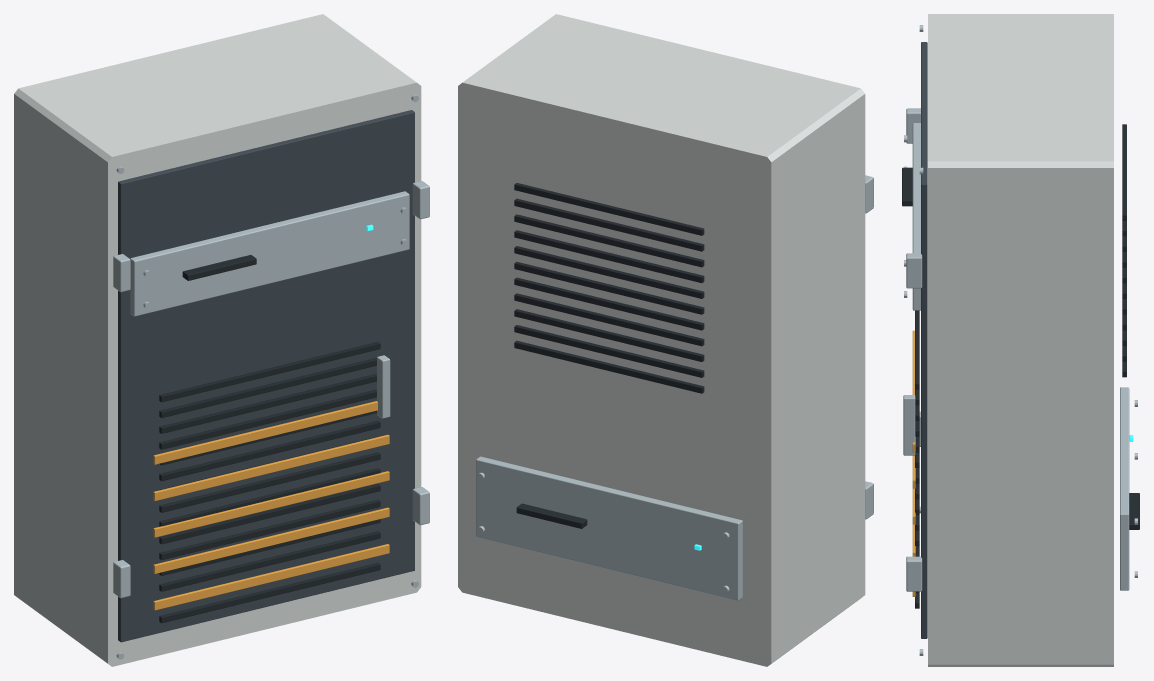
File: data-centre-infiltration-kit-data-centre-infiltration--63564345__29241.glb
3 views of the same model, side by side, from view 1: azimuth 30°, elevation 25°; view 2: azimuth 150°, elevation 25°; view 3: azimuth 270°, elevation 25° (orthographic).
Parts seen in each view (by area): view 1: data-centre-infiltration-kit-switchgear; view 2: data-centre-infiltration-kit-switchgear; view 3: data-centre-infiltration-kit-switchgear.
Boxes of the visible parts, x1,y1,x2,y2 form: data-centre-infiltration-kit-switchgear: [14, 14, 429, 666]; data-centre-infiltration-kit-switchgear: [458, 14, 873, 666]; data-centre-infiltration-kit-switchgear: [902, 14, 1139, 666].
Bounding box in the file's own units: 1.35 × 2.1 × 0.8951.
